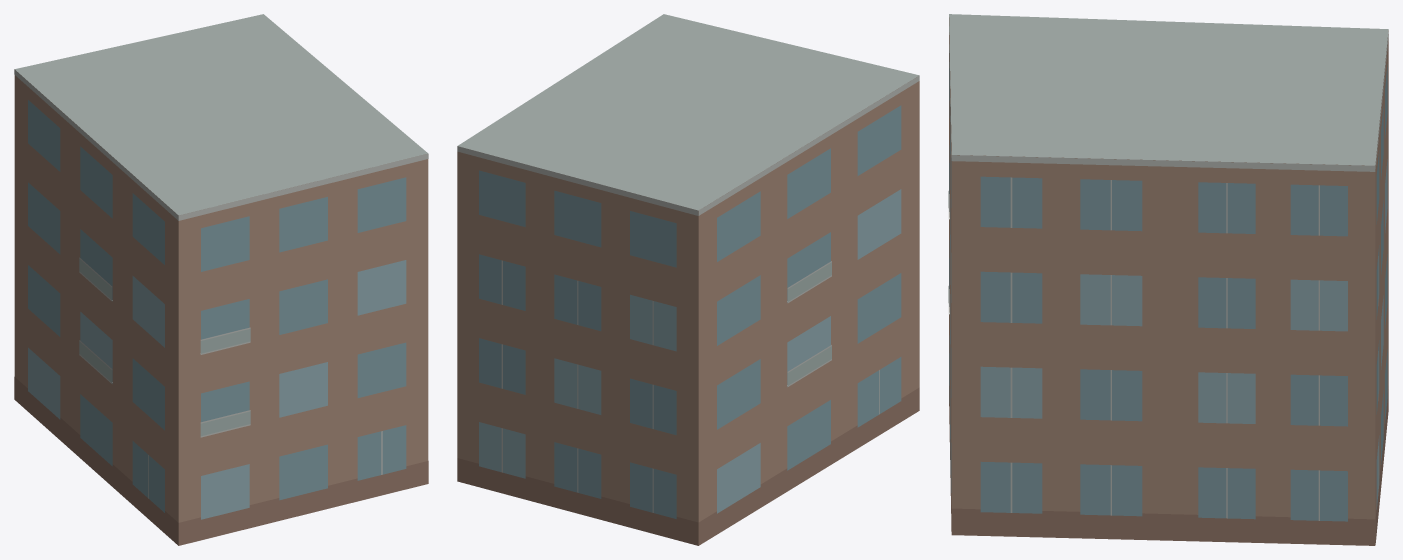
Rendered from survey-upis-32477055.glb.
The picture shows the model from 3 angles, left to right: view 1: azimuth 30°, elevation 25°; view 2: azimuth 150°, elevation 25°; view 3: azimuth 270°, elevation 25°; orthographic projection. The views are drawn at different scales.
Parts seen in each view (by area): view 1: survey-upis-32477055.tmp; view 2: survey-upis-32477055.tmp; view 3: survey-upis-32477055.tmp.
Part boxes in pixels (x1,y1,x2,y2): survey-upis-32477055.tmp: (14,14,428,545); survey-upis-32477055.tmp: (457,14,919,545); survey-upis-32477055.tmp: (948,14,1388,545).
Bounding box in the file's own units: 12.76 × 14.9 × 15.65.
